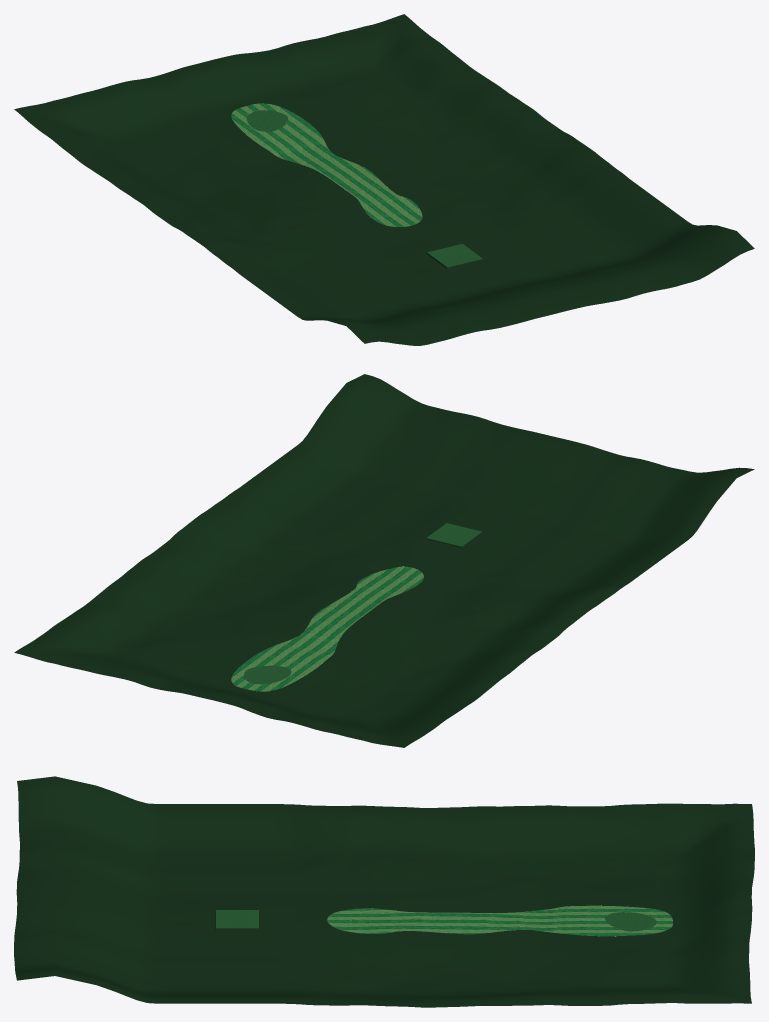
Rendered from Course-transformed.glb.
3 renders of one model, top to bottom at view 1: azimuth 30°, elevation 25°; view 2: azimuth 150°, elevation 25°; view 3: azimuth 270°, elevation 25°, orthographic. The views are drawn at different scales.
Parts seen in each view (by area): view 1: fc; view 2: fc; view 3: fc.
Part boxes in pixels (x1=…): fc: x1=14, y1=14, x2=754, y2=345; fc: x1=14, y1=374, x2=754, y2=747; fc: x1=14, y1=776, x2=754, y2=1007.
Bounding box in the file's own units: 282 × 32.95 × 437.
Materials: 3 (3 with a texture image).
